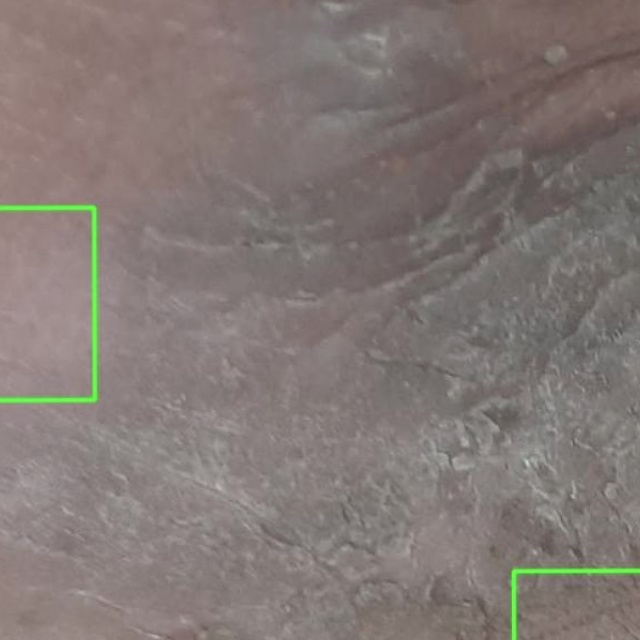Eczema: (0, 207, 94, 400)
